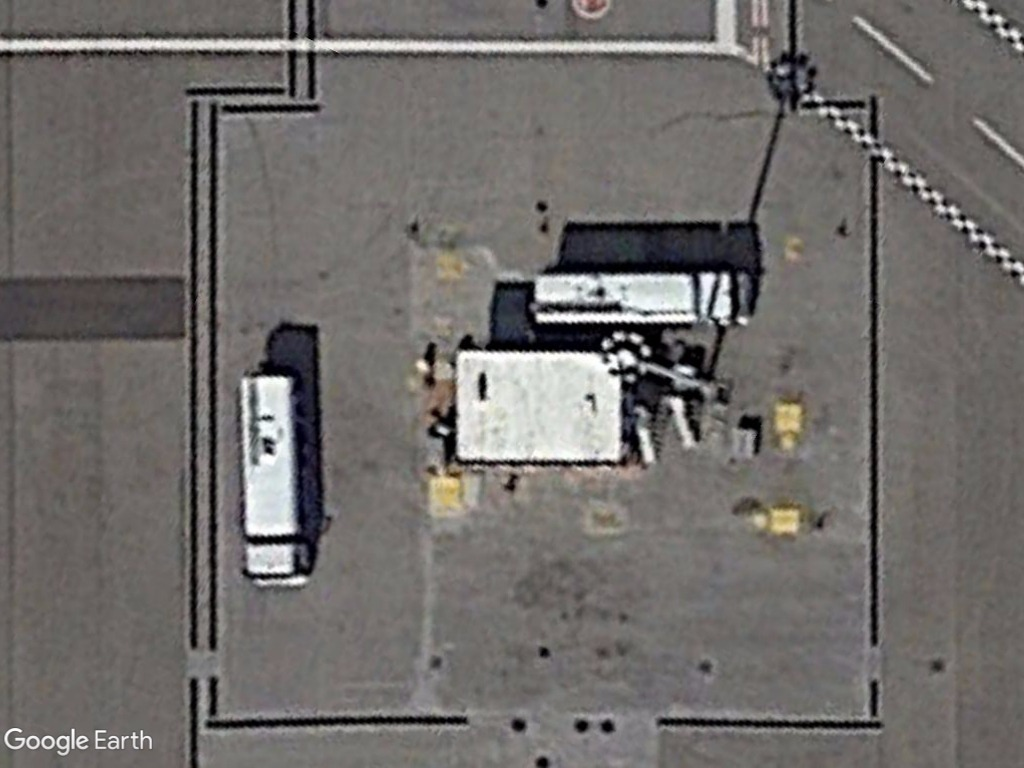longvehicle: (236, 372, 319, 592), (526, 266, 759, 331)
